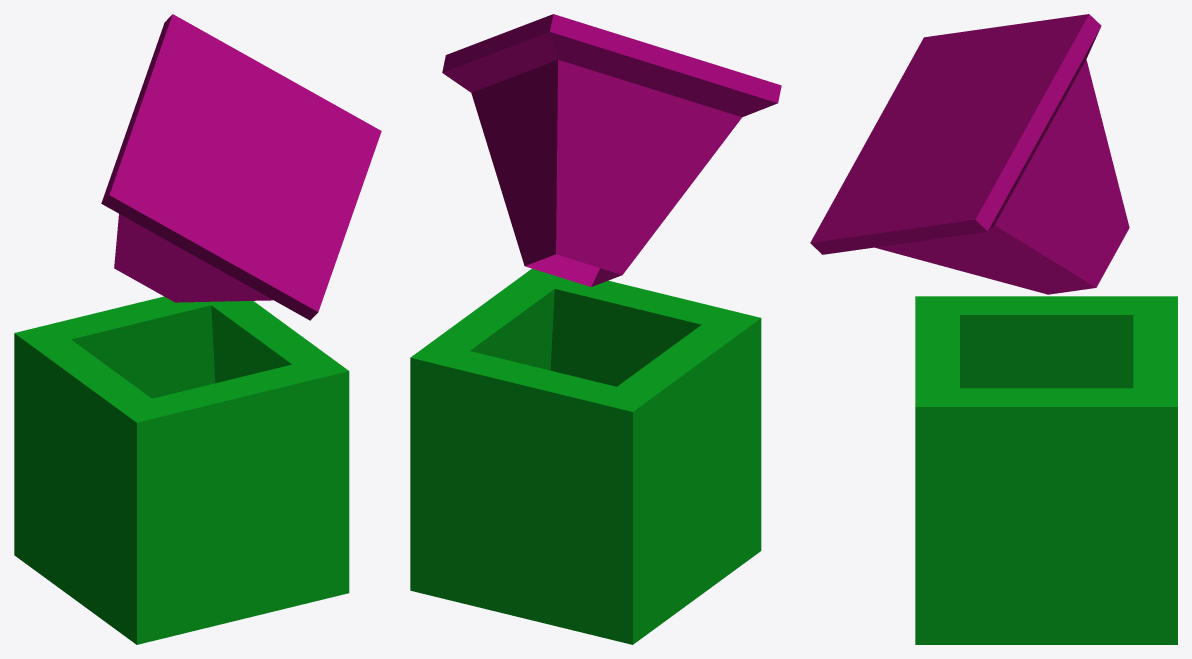
File: AnimatedBox_000016.obj
3 views of the same model, side by side, from view 1: azimuth 30°, elevation 25°; view 2: azimuth 150°, elevation 25°; view 3: azimuth 270°, elevation 25° (orthographic). The views are drawn at different scales.
Visible parts, largest first — view 1: Cube, Cube.001; view 2: Cube, Cube.001; view 3: Cube, Cube.001.
Boxes of the visible parts, x1,y1,x2,y2 form: Cube: (14, 296, 349, 644); Cube.001: (101, 14, 381, 320); Cube: (410, 268, 761, 644); Cube.001: (442, 14, 781, 286); Cube: (915, 296, 1177, 644); Cube.001: (810, 14, 1129, 294).
Size of the model in its own units: 2.81 by 4.89 by 2.8.
